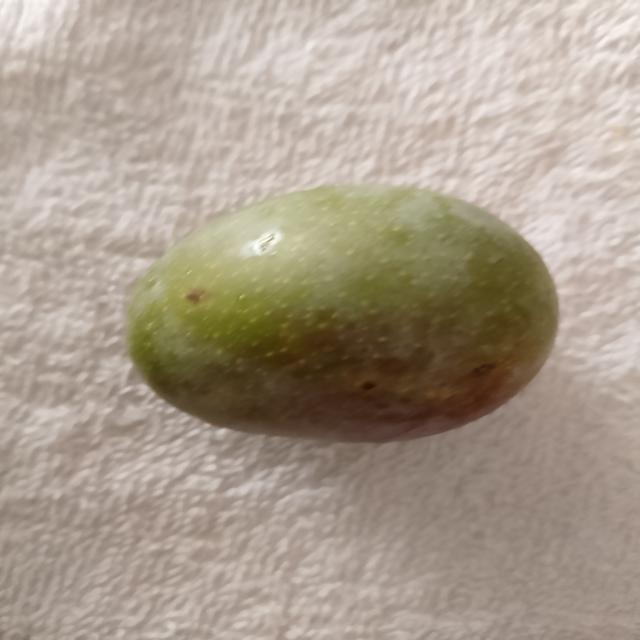mango: (128, 187, 557, 441)
